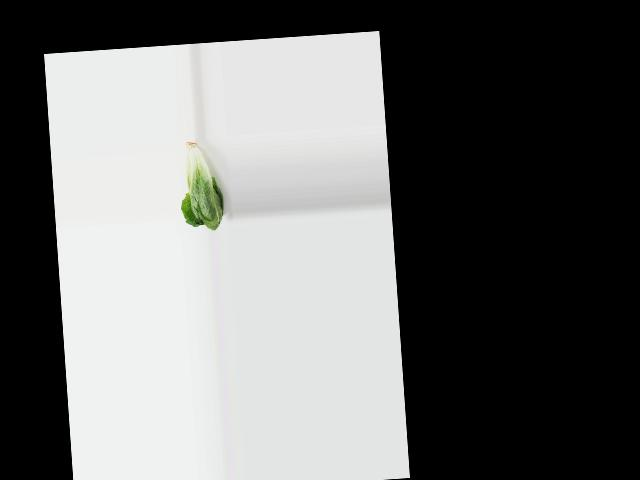lettuce: (175, 135, 227, 233)
